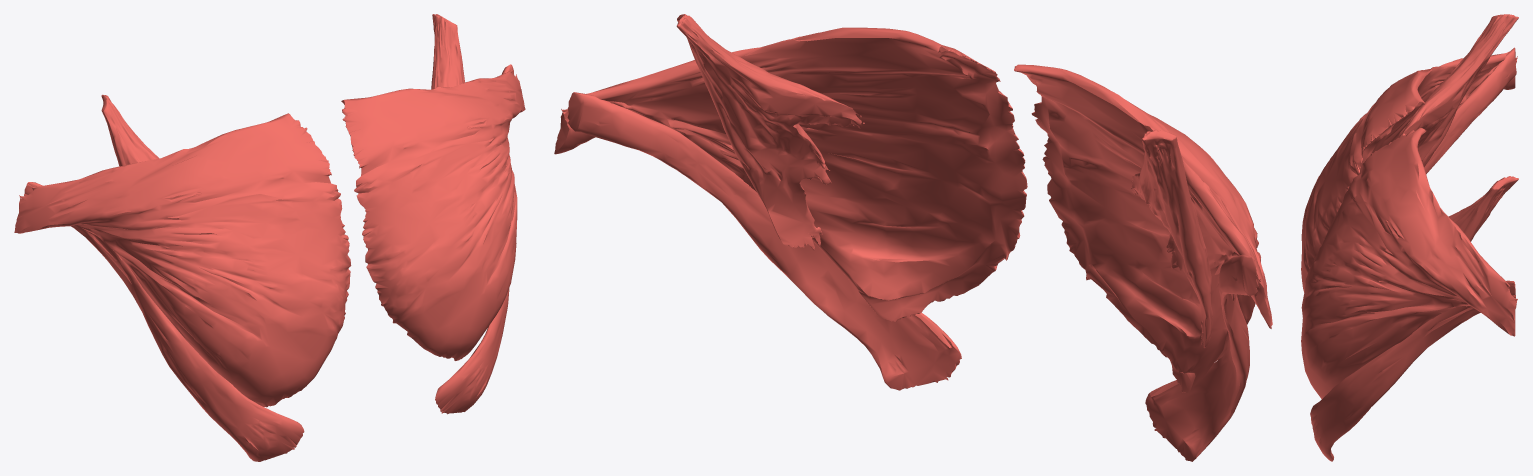
Rendered from supplement-spine-trunk-muscle-pectorals.glb.
3 views of the same model, side by side, from view 1: azimuth 30°, elevation 25°; view 2: azimuth 150°, elevation 25°; view 3: azimuth 270°, elevation 25° (orthographic). The views are drawn at different scales.
Visible parts, largest first — view 1: spine-trunk:pectoralis-major:isa:FJ1464, spine-trunk:pectoralis-major:isa:FJ1464M, spine-trunk:pectoralis-major:isa:FJ1446, spine-trunk:pectoralis-major:isa:FJ1446M, spine-trunk:pectoralis-minor:isa:FJ1456M, spine-trunk:pectoralis-minor:isa:FJ1456; view 2: spine-trunk:pectoralis-major:isa:FJ1464M, spine-trunk:pectoralis-major:isa:FJ1464, spine-trunk:pectoralis-major:isa:FJ1446M, spine-trunk:pectoralis-minor:isa:FJ1456M, spine-trunk:pectoralis-major:isa:FJ1446, spine-trunk:pectoralis-minor:isa:FJ1456; view 3: spine-trunk:pectoralis-major:isa:FJ1464M, spine-trunk:pectoralis-major:isa:FJ1464, spine-trunk:pectoralis-major:isa:FJ1446M, spine-trunk:pectoralis-minor:isa:FJ1456, spine-trunk:pectoralis-major:isa:FJ1446, spine-trunk:pectoralis-minor:isa:FJ1456M.
Boxes of the visible parts, x1,y1,x2,y2 form: spine-trunk:pectoralis-major:isa:FJ1464: (14,113,351,407); spine-trunk:pectoralis-major:isa:FJ1464M: (341,70,525,360); spine-trunk:pectoralis-major:isa:FJ1446: (24,182,304,461); spine-trunk:pectoralis-major:isa:FJ1446M: (435,64,514,414); spine-trunk:pectoralis-minor:isa:FJ1456M: (431,14,464,89); spine-trunk:pectoralis-minor:isa:FJ1456: (101,94,159,166); spine-trunk:pectoralis-major:isa:FJ1464M: (554,27,1027,321); spine-trunk:pectoralis-major:isa:FJ1464: (1014,64,1272,392); spine-trunk:pectoralis-major:isa:FJ1446M: (567,92,961,390); spine-trunk:pectoralis-minor:isa:FJ1456M: (676,14,864,250); spine-trunk:pectoralis-major:isa:FJ1446: (1145,254,1258,461); spine-trunk:pectoralis-minor:isa:FJ1456: (1131,129,1212,347); spine-trunk:pectoralis-major:isa:FJ1464M: (1301,128,1517,398); spine-trunk:pectoralis-major:isa:FJ1464: (1301,52,1517,292); spine-trunk:pectoralis-major:isa:FJ1446M: (1310,280,1516,461); spine-trunk:pectoralis-minor:isa:FJ1456: (1400,14,1518,166); spine-trunk:pectoralis-major:isa:FJ1446: (1424,47,1516,174); spine-trunk:pectoralis-minor:isa:FJ1456M: (1448,176,1518,241).
Bounding box in the file's own units: 0.3757 × 0.2219 × 0.139.
